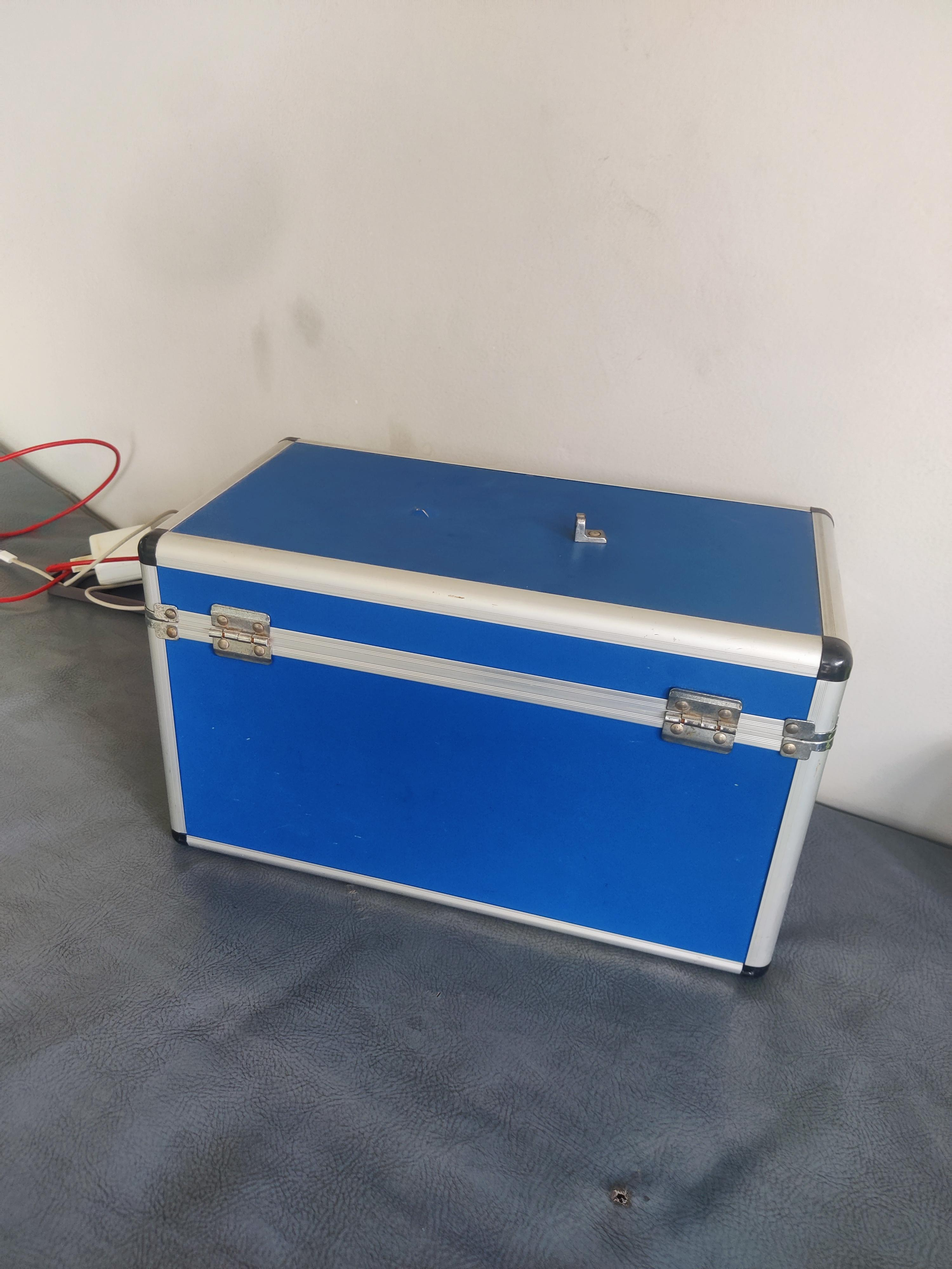FirstAidBox: (114, 410, 882, 1038)
